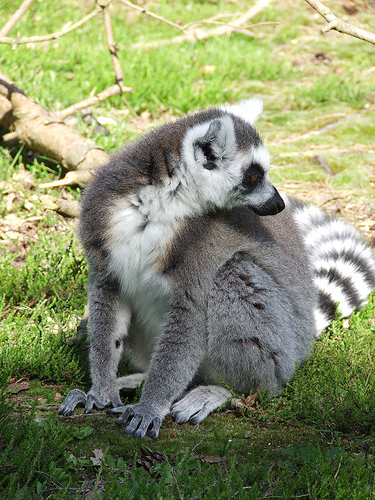cat: (53, 106, 373, 437)
